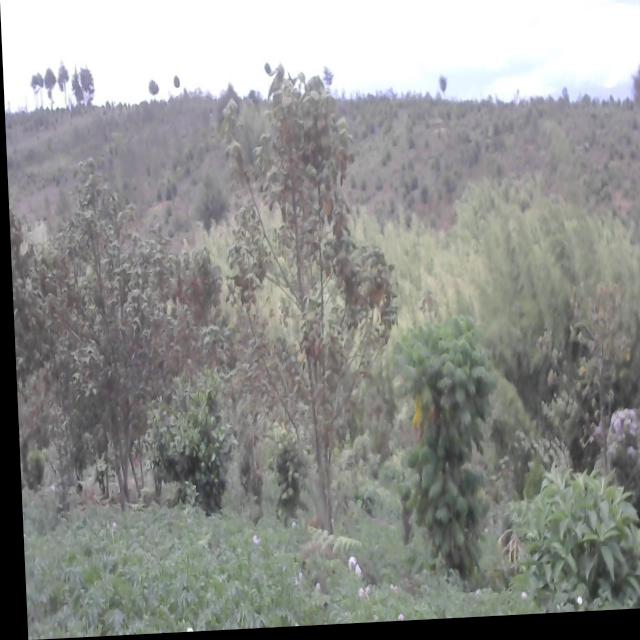Hagenia abyssinica: (395, 322, 497, 559)
cedrus: (41, 64, 57, 112), (56, 56, 71, 107), (26, 67, 44, 107), (78, 62, 92, 102), (70, 59, 79, 103)
other: (216, 58, 401, 536), (33, 187, 169, 487), (537, 280, 637, 493), (173, 372, 222, 517)
